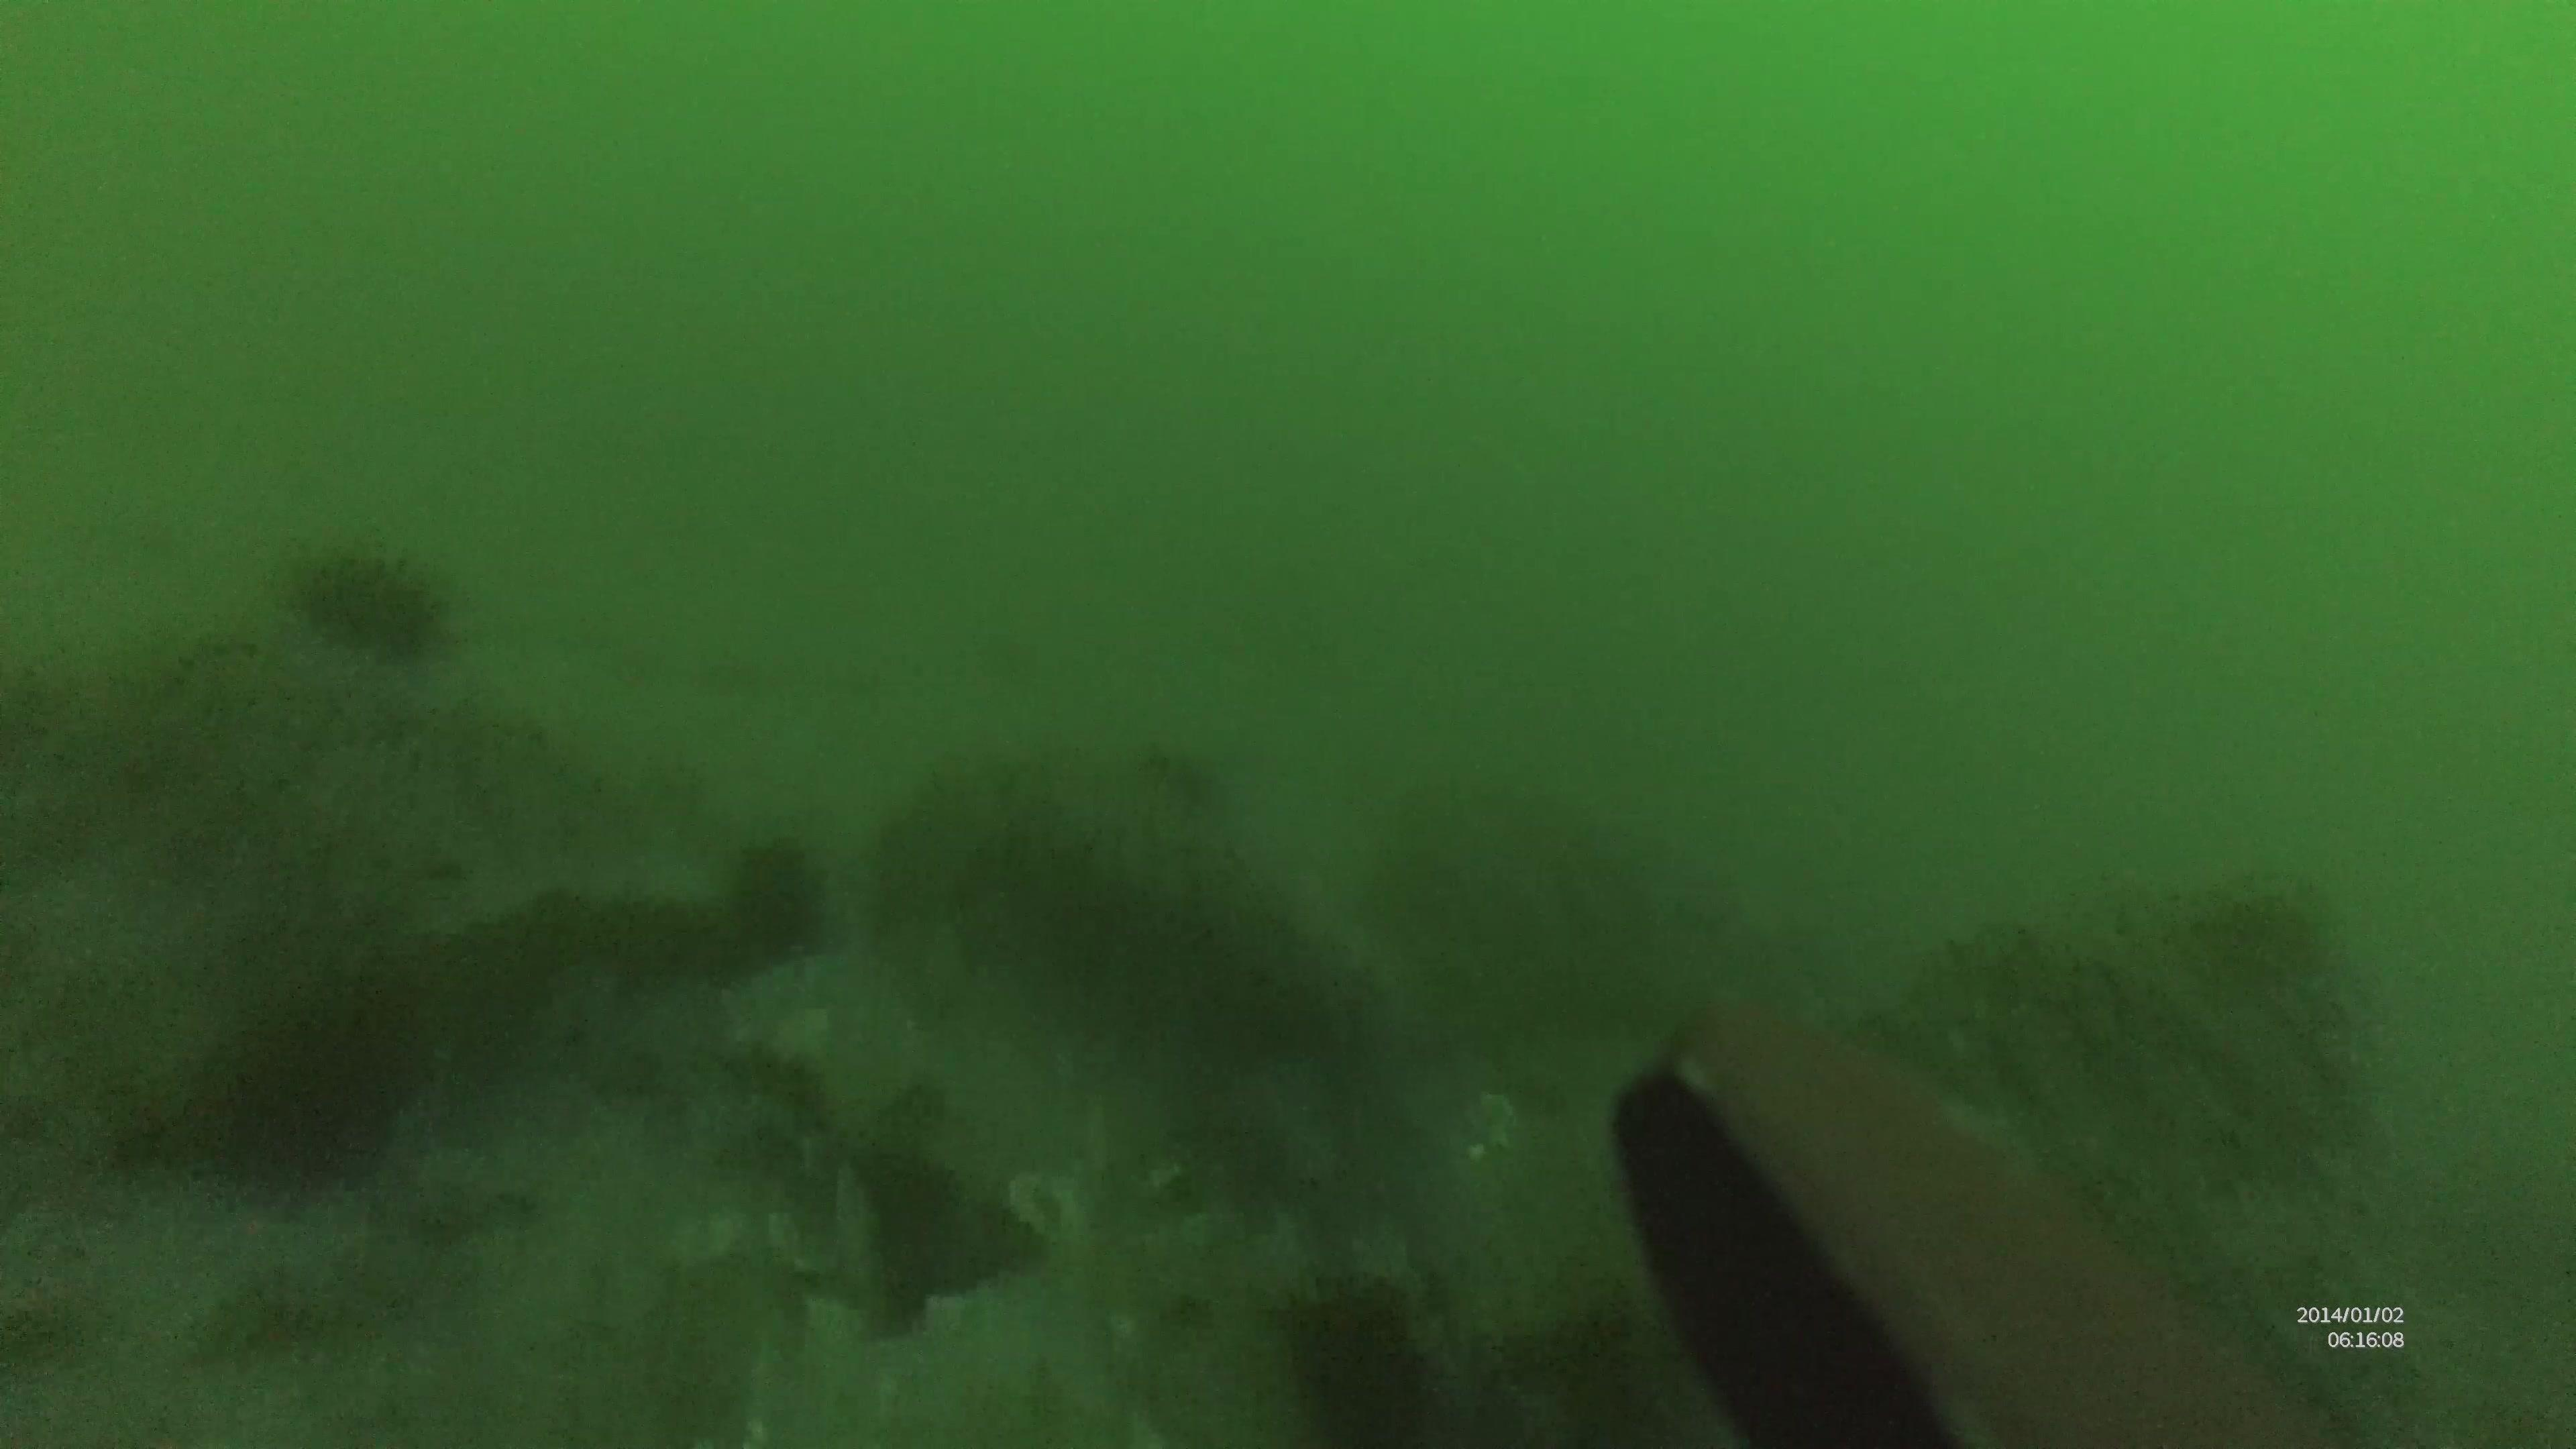echinus: (272, 552, 444, 665)
